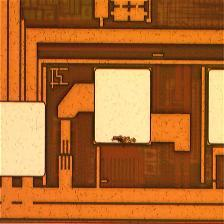PARTICLE: (111, 133, 138, 146)
